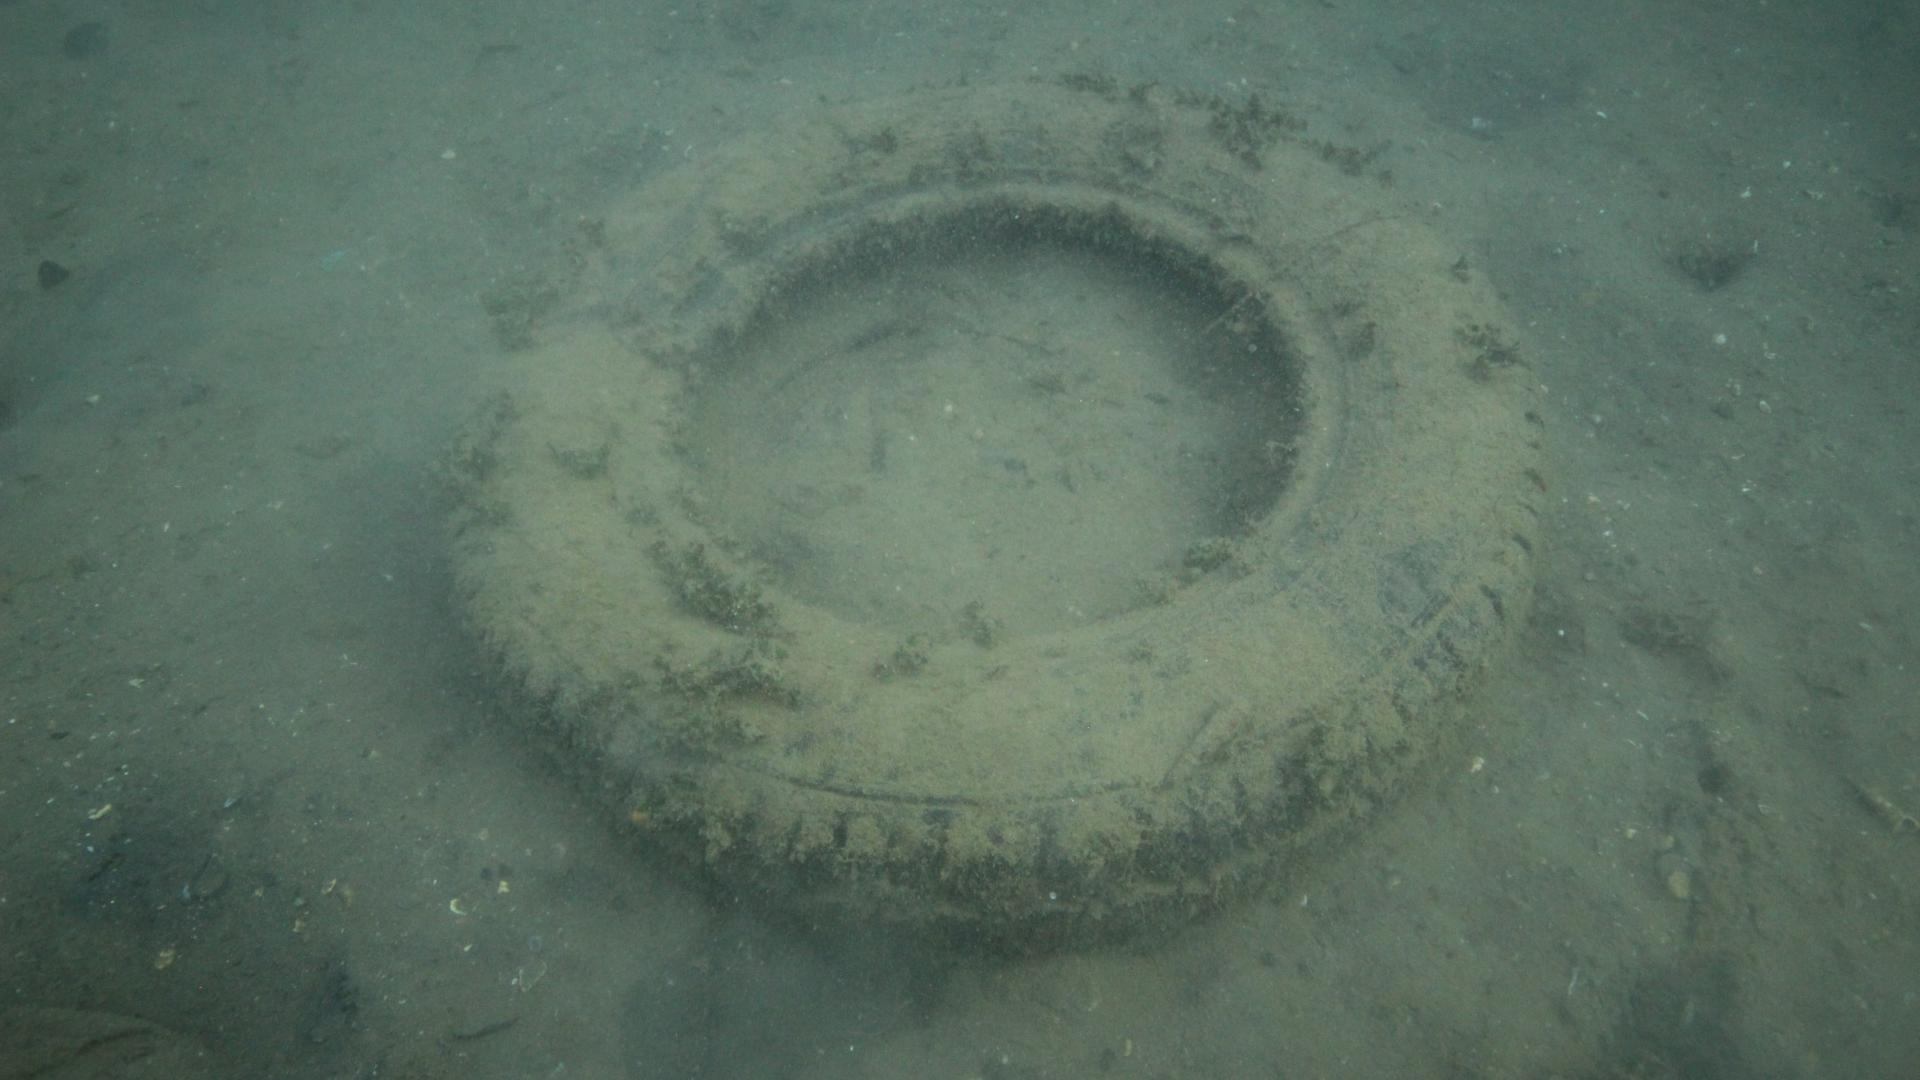tire: (438, 76, 1545, 967)
